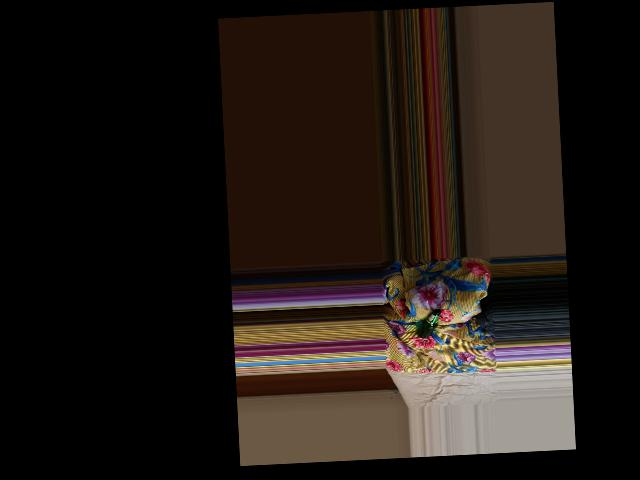beer: (415, 308, 441, 338)
